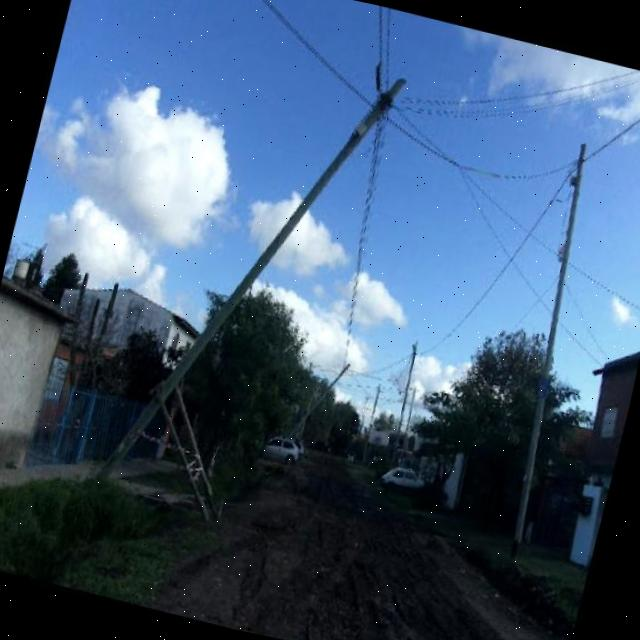Broken Pole: (97, 76, 407, 480)
